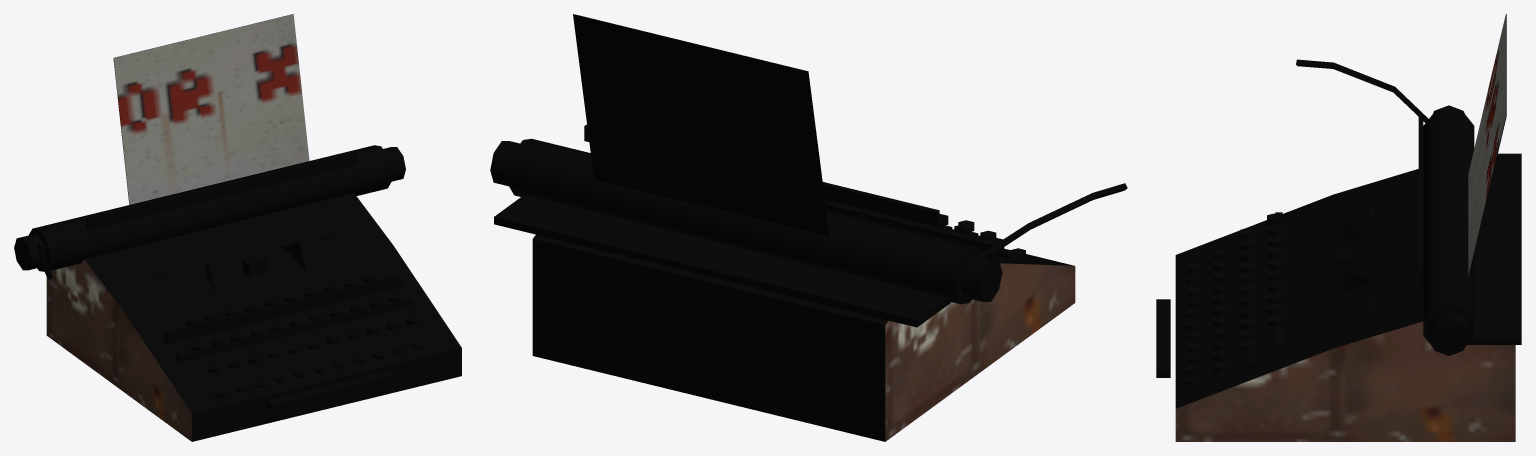
Rendered from typewriter_save.fbx.
The picture shows the model from 3 angles, left to right: view 1: azimuth 30°, elevation 25°; view 2: azimuth 150°, elevation 25°; view 3: azimuth 270°, elevation 25°; orthographic projection. The views are drawn at different scales.
Parts seen in each view (by area): view 1: typewriter_save, typewriter_save_carriage; view 2: typewriter_save_carriage, typewriter_save; view 3: typewriter_save, typewriter_save_carriage.
Boxes of the visible parts, x1=… form: typewriter_save: x1=46, y1=193, x2=461, y2=441; typewriter_save_carriage: x1=14, y1=14, x2=405, y2=279; typewriter_save_carriage: x1=490, y1=14, x2=1127, y2=327; typewriter_save: x1=532, y1=200, x2=1075, y2=441; typewriter_save: x1=1156, y1=169, x2=1515, y2=441; typewriter_save_carriage: x1=1296, y1=14, x2=1521, y2=355.
Bounding box in the file's own units: 0.4608 × 0.2817 × 0.301.
